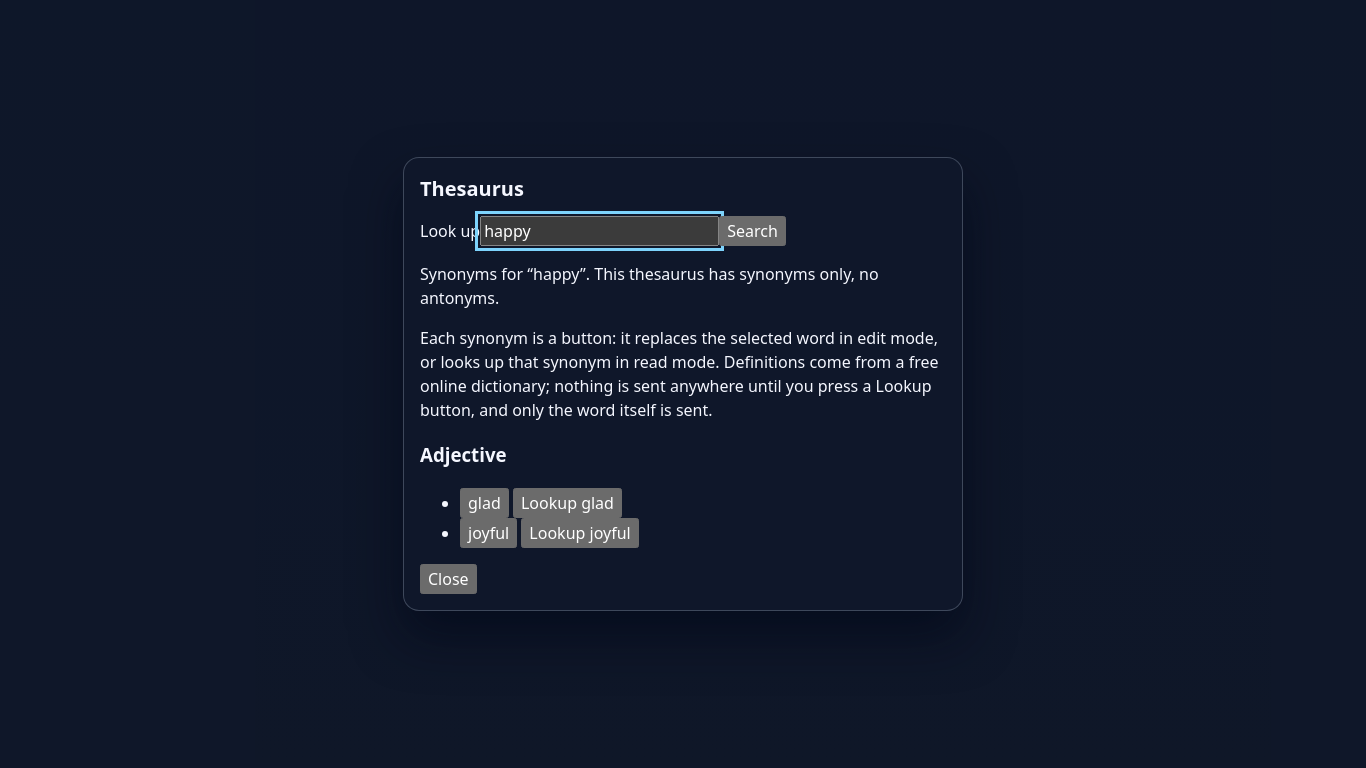
Test case: thesaurus dialog › reports a failed definition lookup plainly
Check: the button "joyful" is shown, box x1=460 y1=518 x2=517 y2=548
Click the button "Lookup joyful": (580, 533) x1=521 y1=518 x2=639 y2=548
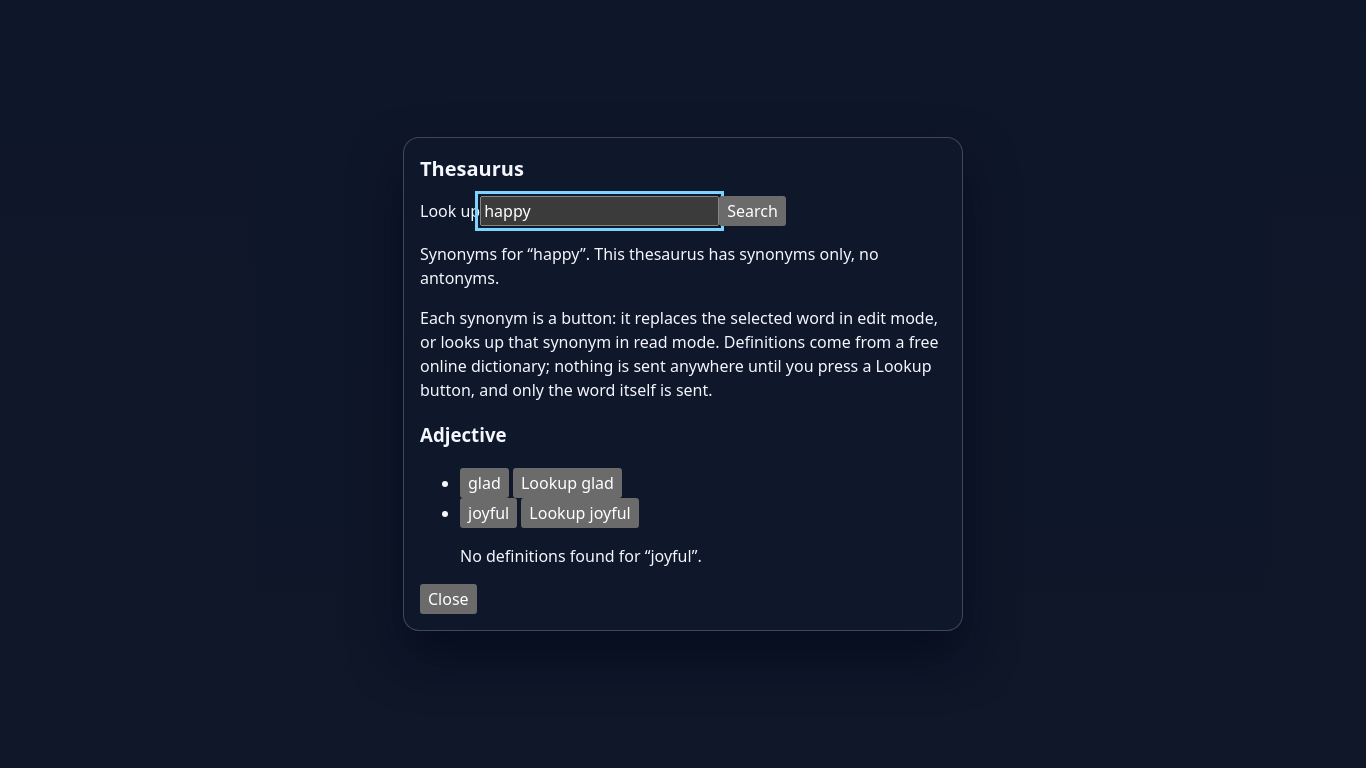
Check: the text "No definitions found for “joyful”." is shown, box x1=460 y1=545 x2=702 y2=567
